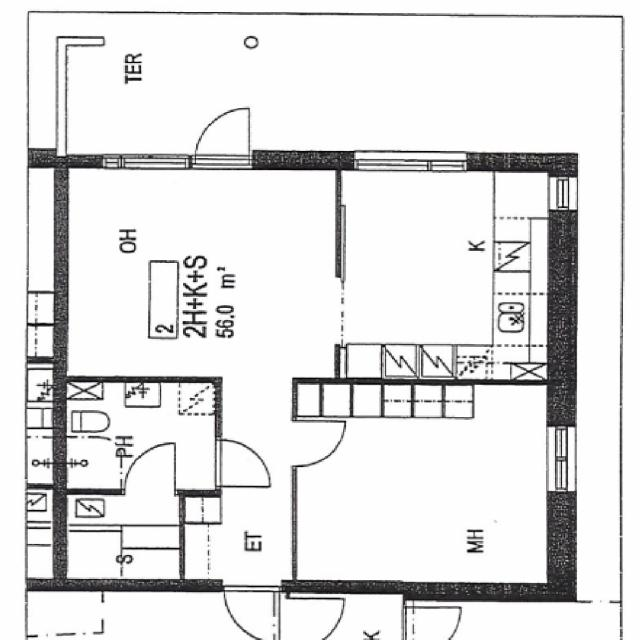door: (194, 98, 250, 169), (224, 579, 279, 640), (215, 439, 273, 487), (126, 442, 176, 495), (292, 421, 348, 467)
